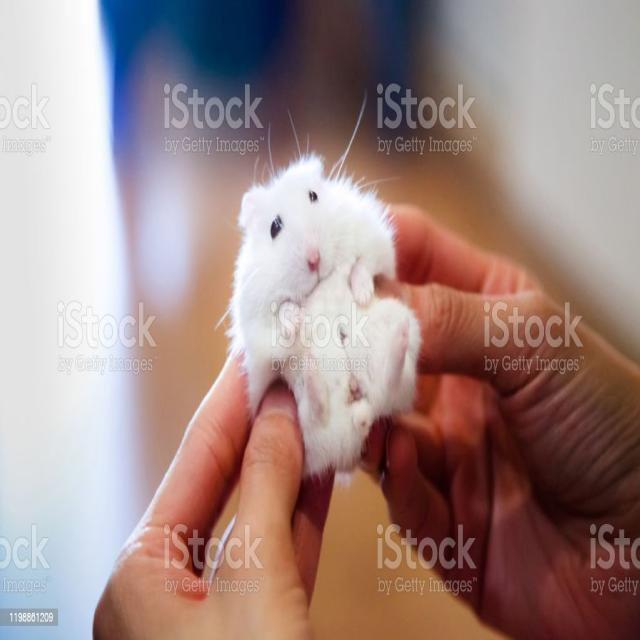hamster: (223, 156, 410, 450)
